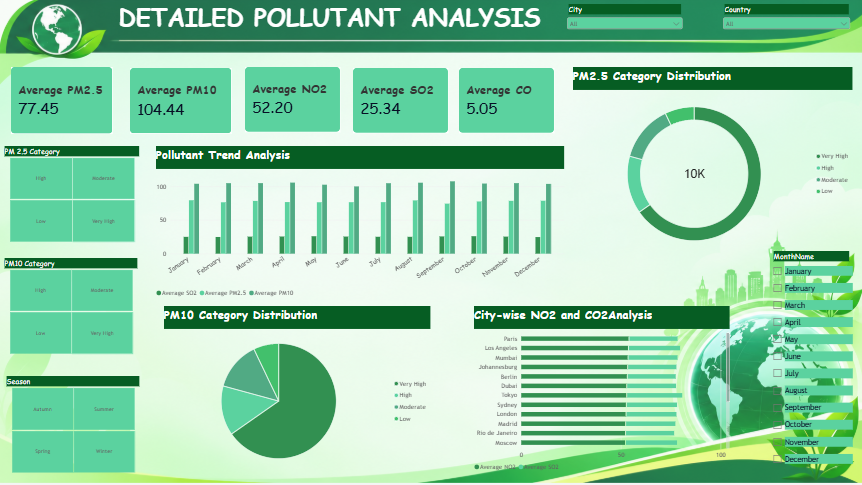

This screenshot's page, from the dashboard's own definition file:
{"tool":"powerbi","page":{"name":"Page 2","canvas":[1920,1080],"ordinal":1},"visuals":[{"type":"textbox","box":[242.9,0,968.6,88.6],"z":0},{"type":"lineClusteredColumnComboChart","title":"\tPollutant Trend Analysis","fields":{"Category":["cleaned_date.MonthName"],"Y":["cleaned_air_quality.Average SO2","cleaned_air_quality.Average PM2.5","cleaned_air_quality.Average PM10"]},"box":[349.9,326.2,907.2,341.3],"z":1000},{"type":"donutChart","title":"PM2.5 Category Distribution","fields":{"Category":["cleaned_air_quality.PM 2.5 Category"],"Y":["CountNonNull(cleaned_air_quality.AirQualityRecordKey)"]},"box":[1276.5,150,620.6,423.5],"z":2000},{"type":"pieChart","title":"PM10 Category Distribution","fields":{"Category":["cleaned_air_quality.PM 2.5 Category"],"Y":["CountNonNull(cleaned_air_quality.AirQualityRecordKey)"]},"box":[367.2,682.6,591.8,371.5],"z":3000},{"type":"cardVisual","fields":{"Data":["cleaned_air_quality.Average PM2.5"]},"box":[25.7,151.4,225.7,148.6],"z":4000},{"type":"cardVisual","fields":{"Data":["cleaned_air_quality.Average PM10"]},"box":[291.4,154.3,225.7,145.7],"z":5000},{"type":"cardVisual","fields":{"Data":["cleaned_air_quality.Average NO2"]},"box":[545.7,151.4,211.7,144.7],"z":6000},{"type":"slicer","fields":{"Values":["cleaned_location.City"]},"box":[1257.1,11.4,265.7,77.1],"z":7000},{"type":"cardVisual","fields":{"Data":["cleaned_air_quality.Average CO"]},"box":[1022.9,154.3,211.7,144.7],"z":9000},{"type":"cardVisual","fields":{"Data":["cleaned_air_quality.Average SO2"]},"box":[785.7,154.3,211.7,144.7],"z":10000},{"type":"slicer","fields":{"Values":["cleaned_air_quality.PM10 Category"]},"box":[4.3,574.6,311,213.8],"z":11000},{"type":"slicer","fields":{"Values":["cleaned_air_quality.PM 2.5 Category"]},"box":[4.3,326.2,315.4,213.8],"z":12000},{"type":"slicer","fields":{"Values":["cleaned_location.Country"]},"box":[1604.9,10.8,291.6,77.8],"z":13000},{"type":"slicer","fields":{"Values":["cleaned_date.MonthName"]},"box":[1712.9,559.4,183.6,494.6],"z":14000},{"type":"slicer","fields":{"Values":["cleaned_date.Season"]},"box":[8.6,838.1,311,216],"z":15000},{"type":"barChart","title":"City-wise NO2 and CO2Analysis","fields":{"Category":["cleaned_location.City"],"Y":["cleaned_air_quality.Average NO2","cleaned_air_quality.Average SO2"]},"box":[1056.2,682.6,568.1,371.5],"z":15001}]}

Visuals, with their boxes in screenshot pixels (x1, y1, x2, y2), scaled from the page's 1920x1080 canvas onto the 862x485 screenshot:
textbox: Rect(109, 0, 544, 40)
"	Pollutant Trend Analysis" lineClusteredColumnComboChart: Rect(157, 146, 564, 300)
"PM2.5 Category Distribution" donutChart: Rect(573, 67, 852, 258)
"PM10 Category Distribution" pieChart: Rect(165, 307, 431, 473)
cardVisual - cleaned_air_quality.Average PM2.5: Rect(12, 68, 113, 135)
cardVisual - cleaned_air_quality.Average PM10: Rect(131, 69, 232, 135)
cardVisual - cleaned_air_quality.Average NO2: Rect(245, 68, 340, 133)
slicer - cleaned_location.City: Rect(564, 5, 684, 40)
cardVisual - cleaned_air_quality.Average CO: Rect(459, 69, 554, 134)
cardVisual - cleaned_air_quality.Average SO2: Rect(353, 69, 448, 134)
slicer - cleaned_air_quality.PM10 Category: Rect(2, 258, 142, 354)
slicer - cleaned_air_quality.PM 2.5 Category: Rect(2, 146, 144, 242)
slicer - cleaned_location.Country: Rect(721, 5, 851, 40)
slicer - cleaned_date.MonthName: Rect(769, 251, 851, 473)
slicer - cleaned_date.Season: Rect(4, 376, 143, 473)
"City-wise NO2 and CO2Analysis" barChart: Rect(474, 307, 729, 473)
